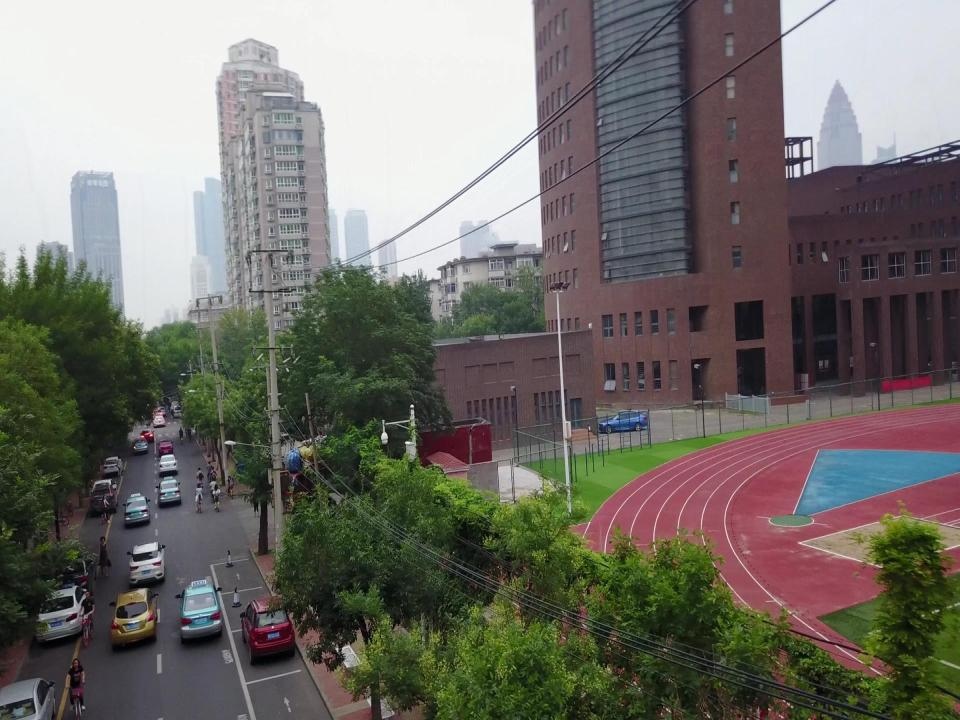car: (239, 597, 296, 664), (36, 582, 90, 642), (109, 587, 159, 651), (174, 580, 222, 644), (0, 677, 55, 720), (126, 542, 166, 584), (57, 555, 97, 597), (598, 410, 648, 434), (123, 493, 151, 526), (90, 484, 118, 517), (155, 476, 181, 507), (91, 479, 117, 498), (157, 454, 178, 477), (102, 457, 122, 476), (132, 436, 148, 455), (157, 439, 173, 456), (140, 430, 154, 443)
